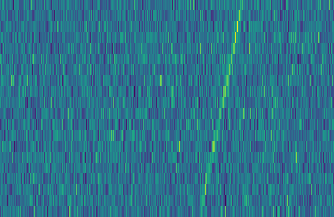signal: (197, 0, 249, 217)
